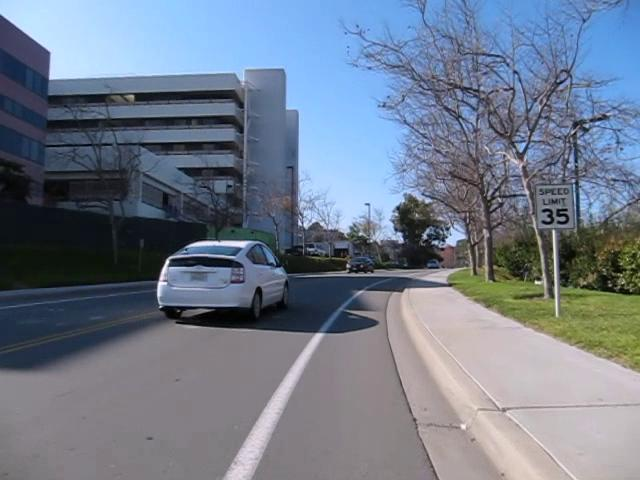speedLimit35: (533, 181, 576, 231)
